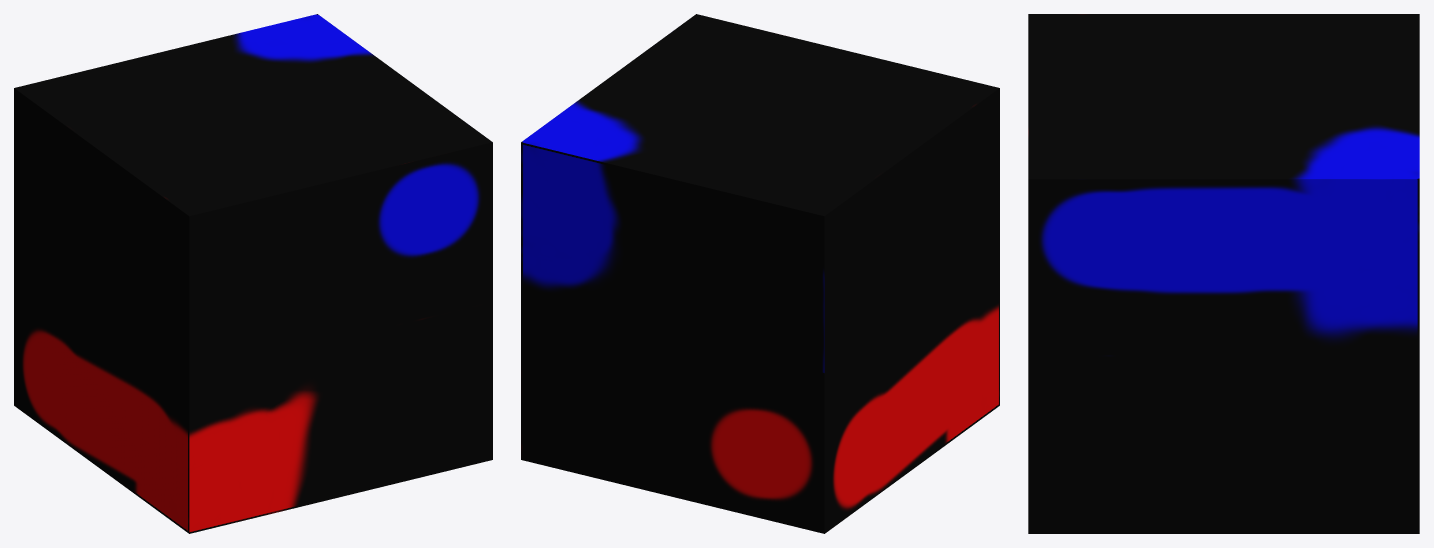
3 views of the same model, side by side, from view 1: azimuth 30°, elevation 25°; view 2: azimuth 150°, elevation 25°; view 3: azimuth 270°, elevation 25° (orthographic). The views are drawn at different scales.
Parts seen in each view (by area): view 1: WoS_Boundary; view 2: WoS_Boundary; view 3: WoS_Boundary.
Boxes of the visible parts, bbox=[...] form: WoS_Boundary: bbox=[14, 14, 492, 533]; WoS_Boundary: bbox=[521, 14, 999, 533]; WoS_Boundary: bbox=[1028, 14, 1419, 533].
Bounding box in the file's own units: 2 × 2 × 2.
2 materials, 2 textured.
